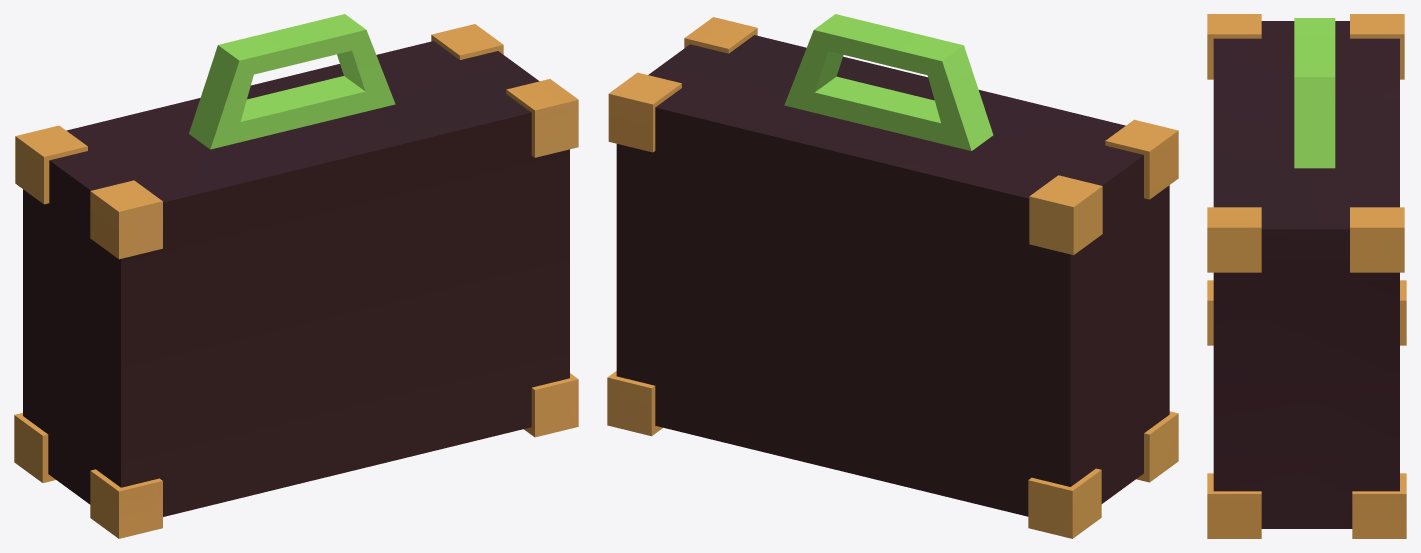
The model's file is negocios.glb.
3 views of the same model, side by side, from view 1: azimuth 30°, elevation 25°; view 2: azimuth 150°, elevation 25°; view 3: azimuth 270°, elevation 25° (orthographic). The views are drawn at different scales.
Visible parts, largest first — view 1: Node; view 2: Node; view 3: Node.
Part boxes in pixels (bbox=[...]): Node: bbox=[14, 14, 578, 538]; Node: bbox=[607, 14, 1178, 538]; Node: bbox=[1207, 14, 1406, 538].
Size of the model in its own units: 0.597 by 0.5014 by 0.2356.
Materials: 1 (1 with a texture image).
